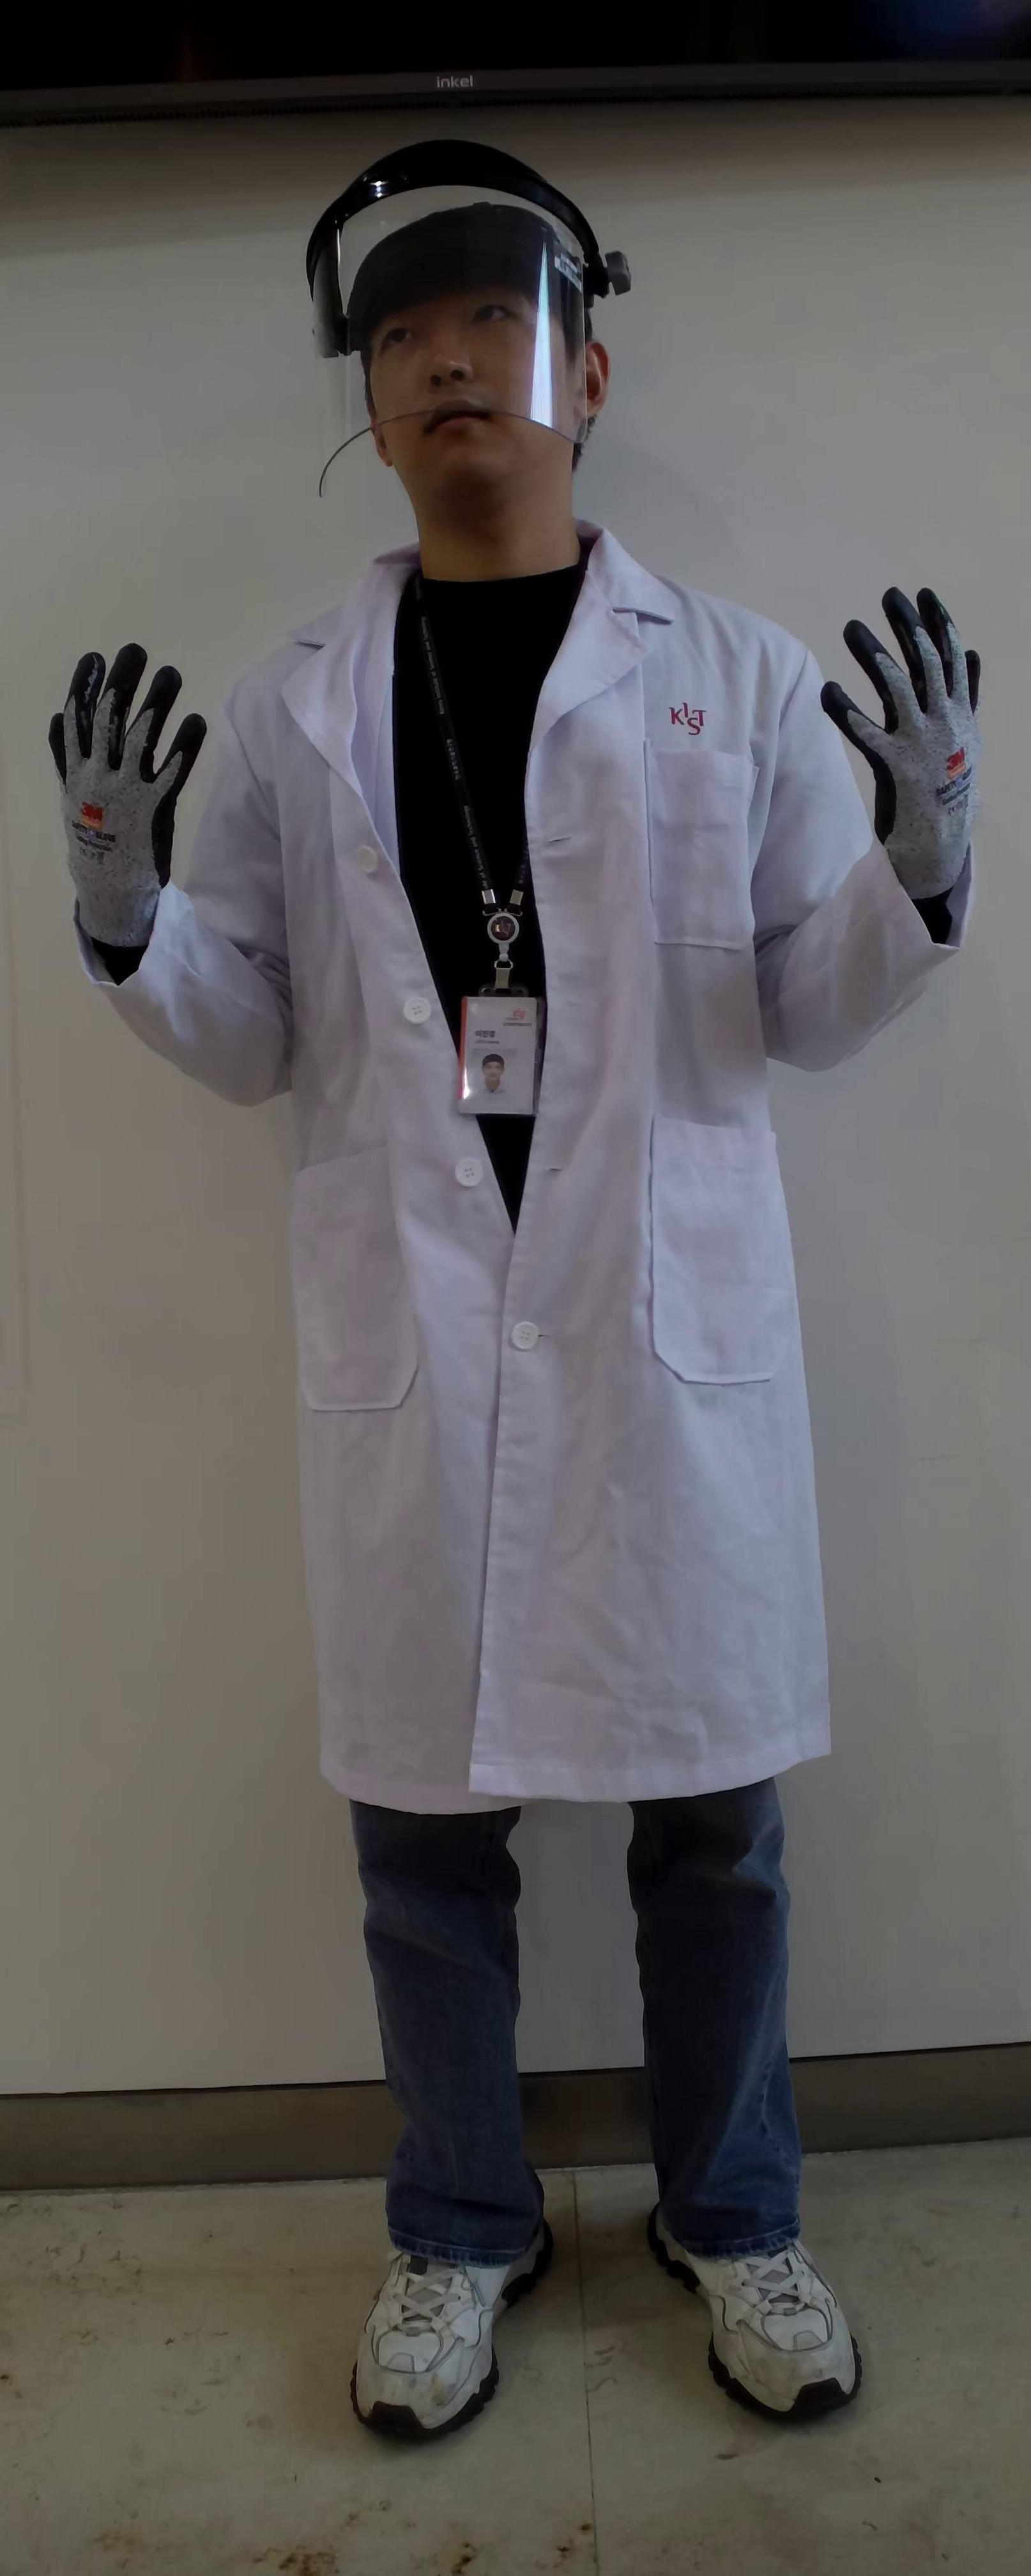lab_coat: (238, 544, 842, 1761)
